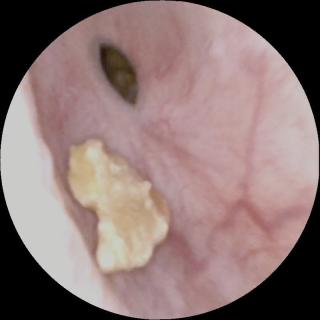stone: (67, 138, 170, 275)
tissue: (6, 7, 315, 317)
